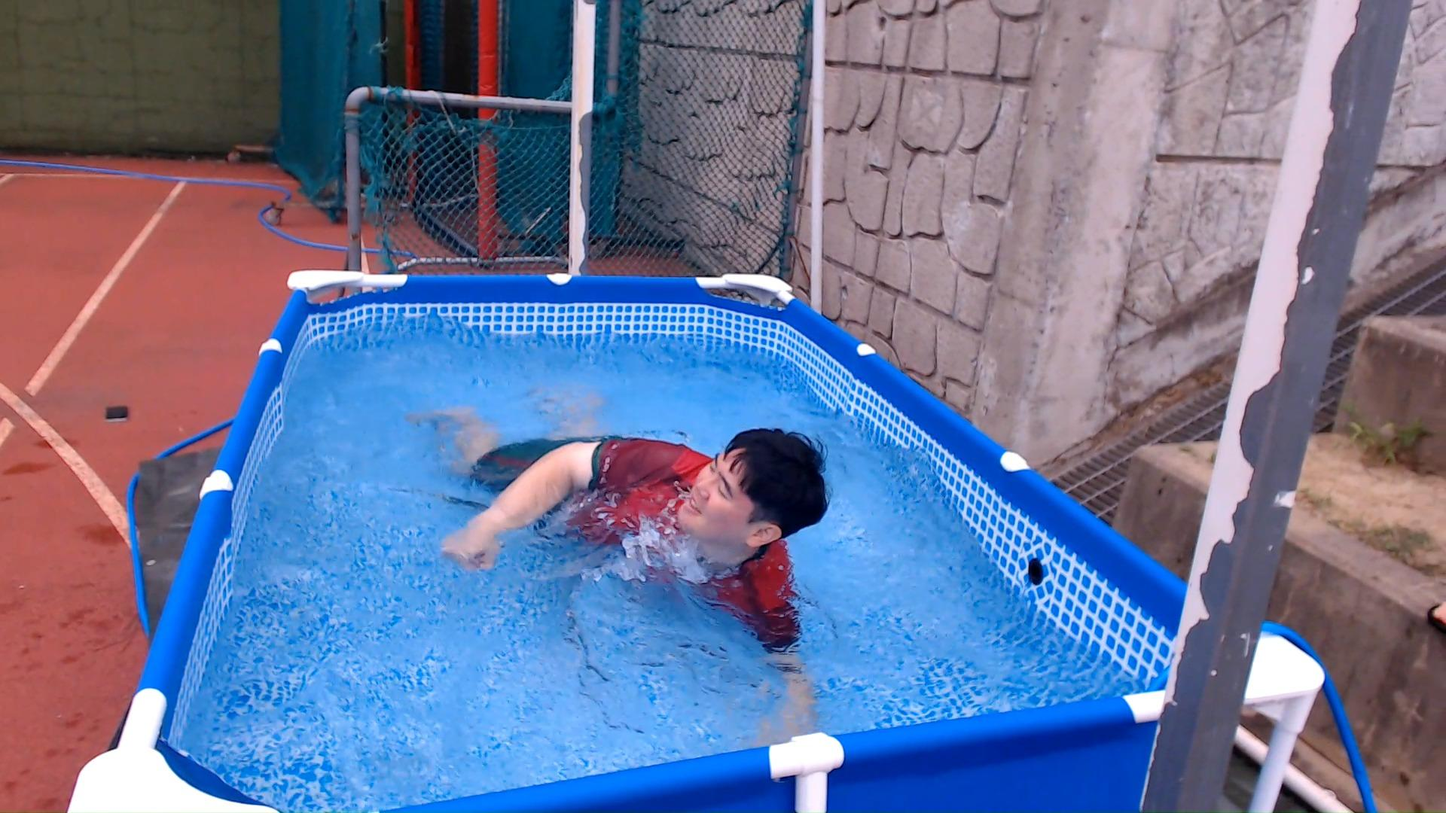Swimming: (365, 304, 886, 745)
